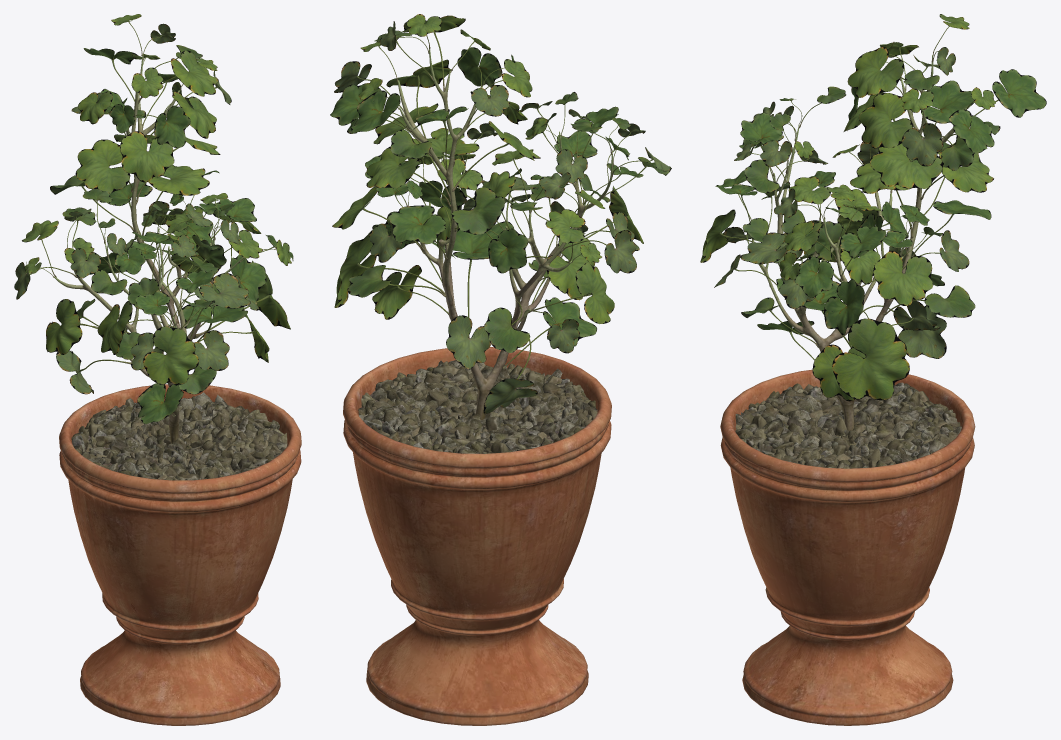
The model's file is potted_plant_01.glb.
3 renders of one model, left to right at view 1: azimuth 30°, elevation 25°; view 2: azimuth 150°, elevation 25°; view 3: azimuth 270°, elevation 25°, orthographic. The views are drawn at different scales.
Visible parts, largest first — view 1: potted_plant_01_pot, potted_plant_01_leaves, potted_plant_01_pebbles, potted_plant_01_stem; view 2: potted_plant_01_pot, potted_plant_01_leaves, potted_plant_01_pebbles, potted_plant_01_stem; view 3: potted_plant_01_pot, potted_plant_01_leaves, potted_plant_01_pebbles, potted_plant_01_stem.
Boxes of the visible parts, x1,y1,x2,y2 form: potted_plant_01_pot: (59,384,301,725); potted_plant_01_leaves: (14,14,293,423); potted_plant_01_pebbles: (71,392,287,480); potted_plant_01_stem: (53,54,244,443); potted_plant_01_pot: (343,347,611,725); potted_plant_01_leaves: (330,14,671,414); potted_plant_01_pebbles: (358,360,597,453); potted_plant_01_stem: (397,49,612,420); potted_plant_01_pot: (720,369,975,725); potted_plant_01_leaves: (700,14,1046,401); potted_plant_01_pebbles: (735,382,961,468); potted_plant_01_stem: (751,55,966,431).
Size of the model in its own units: 0.5874 by 1.34 by 0.6336.
2 materials, 2 textured.
